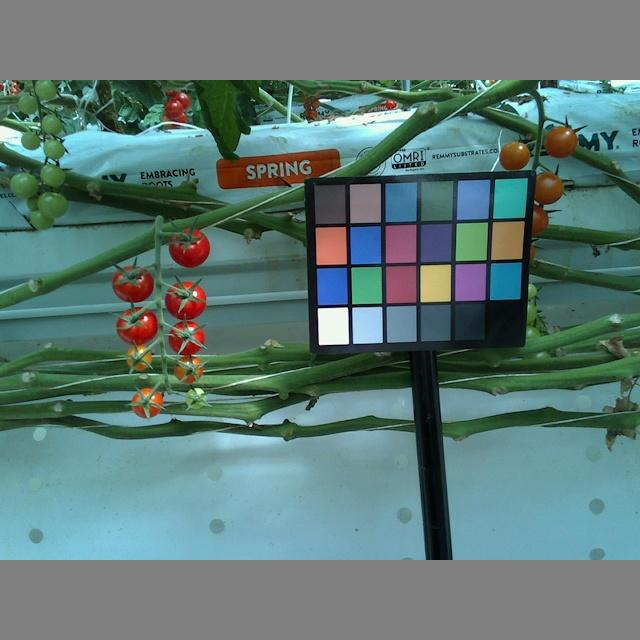green: (10, 171, 41, 201), (36, 190, 68, 218), (39, 164, 67, 187), (27, 209, 56, 230), (42, 137, 66, 160), (17, 93, 39, 115), (41, 113, 61, 137), (34, 81, 59, 99), (18, 130, 39, 150)
pink: (542, 126, 580, 158), (533, 171, 567, 206), (130, 388, 164, 419), (499, 141, 531, 171), (172, 356, 203, 383), (126, 345, 156, 371)
red: (169, 226, 211, 269), (162, 281, 208, 320), (112, 265, 155, 302), (115, 307, 158, 344), (167, 322, 208, 356)
